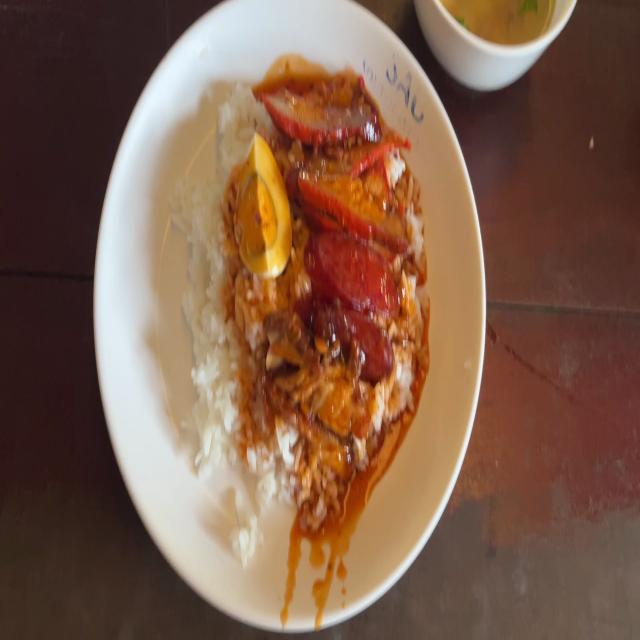red_pork_and_crispy_pork: (245, 138, 283, 273)
stir_fried_basil: (306, 242, 402, 336)
